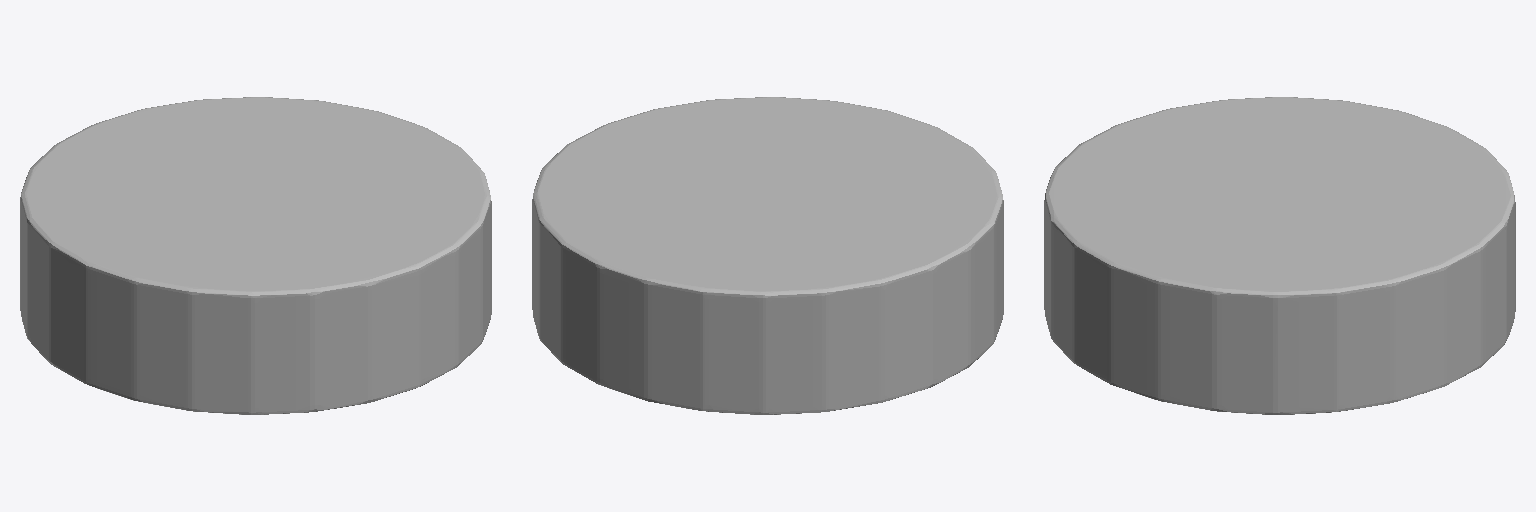
robot.urdf — root:
<robot name="root">
  <link name="link_coacd_convex_piece_0">
    <inertial>
      <origin xyz="0 0 0" rpy="0 0 0"/>
      <inertia ixx="3.49E-01" ixy="3.10E-06" ixz="-5.70E-08" iyy="3.49E-01" iyz="-2.55E-08" izz="6.27E-01"/>
    </inertial>
    <visual>
      <origin xyz="0 0 0" rpy="0 0 0"/>
      <geometry>
        <mesh filename="coacd_convex_piece_0.obj" scale="1.0000E+00 1.0000E+00 1.0000E+00"/>
      </geometry>
      <material name="">
        <color rgba="7.50E-01 7.50E-01 7.50E-01 1"/>
      </material>
    </visual>
    <collision>
      <origin xyz="0 0 0" rpy="0 0 0"/>
      <geometry>
        <mesh filename="coacd_convex_piece_0.obj" scale="1.0000E+00 1.0000E+00 1.0000E+00"/>
      </geometry>
    </collision>
  </link>
</robot>

--- What the picture shows (computed from the rendered views, not written in the file) ---
The picture shows the robot from 3 angles, left to right: view 1: azimuth 30°, elevation 25°; view 2: azimuth 150°, elevation 25°; view 3: azimuth 270°, elevation 25°; orthographic projection.
Model root with 1 links and 0 joints (none), rooted at link_coacd_convex_piece_0, posed all joints at 0.
Links seen in each view (by area): view 1: link_coacd_convex_piece_0; view 2: link_coacd_convex_piece_0; view 3: link_coacd_convex_piece_0.
Boxes of the visible links, x1,y1,x2,y2 form: link_coacd_convex_piece_0: (20, 97, 491, 414); link_coacd_convex_piece_0: (532, 97, 1003, 414); link_coacd_convex_piece_0: (1044, 97, 1515, 414).
Size in the robot's own frame: 1.89 by 1.89 by 0.544 metres.
Meshes: 1 distinct files referenced, 1 mesh visuals loaded (1 OBJ).
